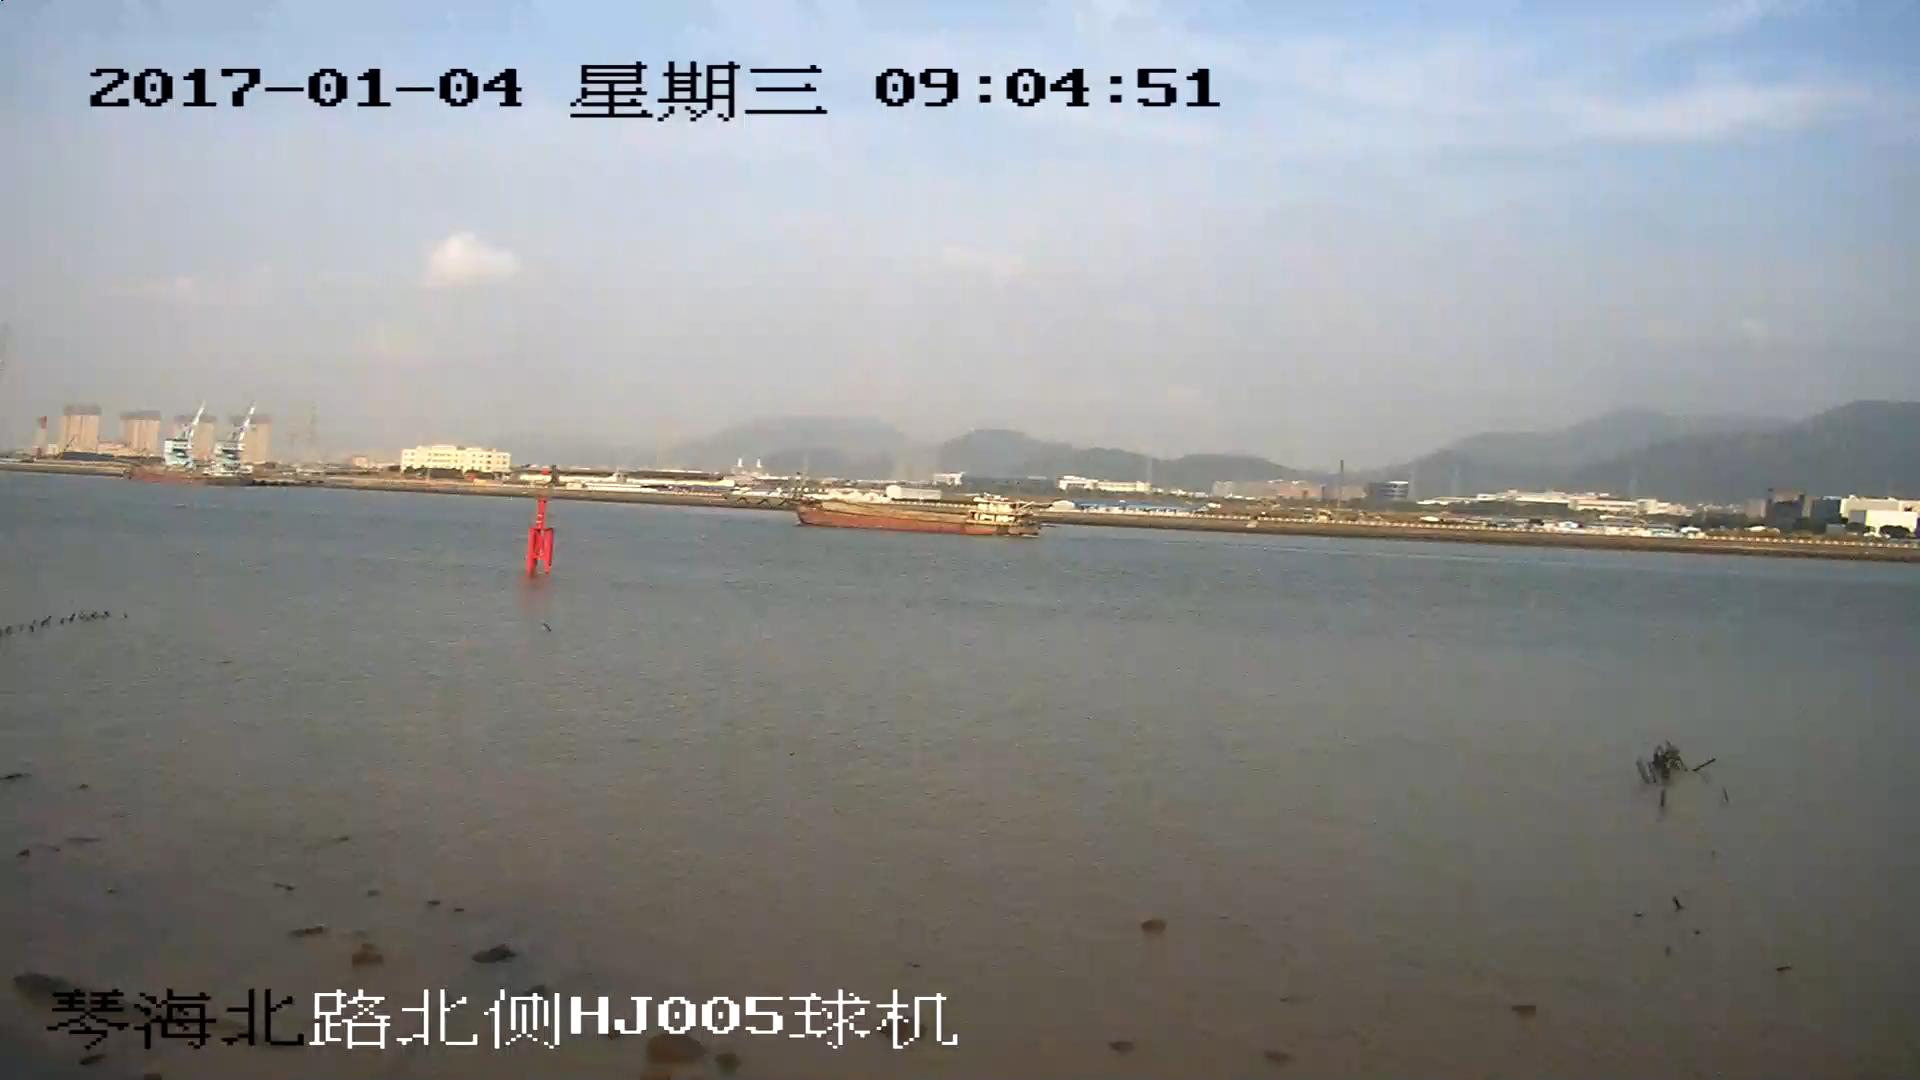bulk cargo carrier: (796, 492, 1034, 537)
